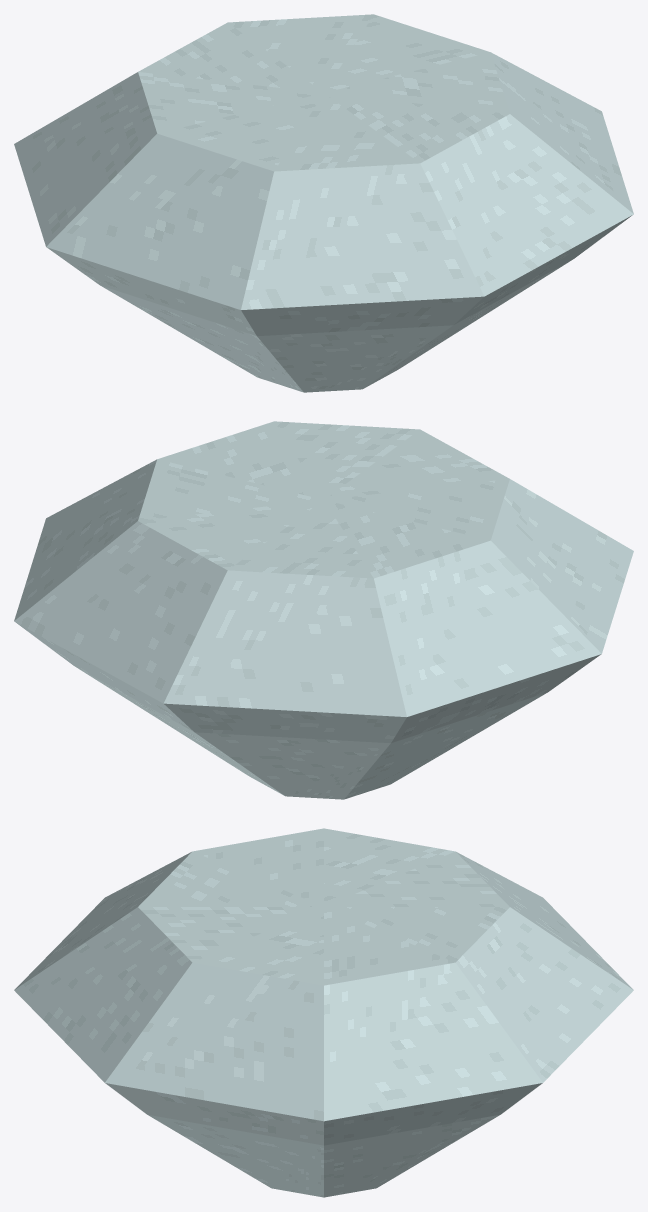
File: diamond.glb
The picture shows the model from 3 angles, top to bottom: view 1: azimuth 30°, elevation 25°; view 2: azimuth 150°, elevation 25°; view 3: azimuth 270°, elevation 25°; orthographic projection. The views are drawn at different scales.
Visible parts, largest first — view 1: block_faceted gemstone; view 2: block_faceted gemstone; view 3: block_faceted gemstone.
Part boxes in pixels (<box>): block_faceted gemstone: <box>14,14,633,392</box>; block_faceted gemstone: <box>14,421,633,799</box>; block_faceted gemstone: <box>14,828,633,1197</box>.
Bounding box in the file's own units: 0.0345 × 0.0175 × 0.0345.
Materials: 1 (1 with a texture image).
